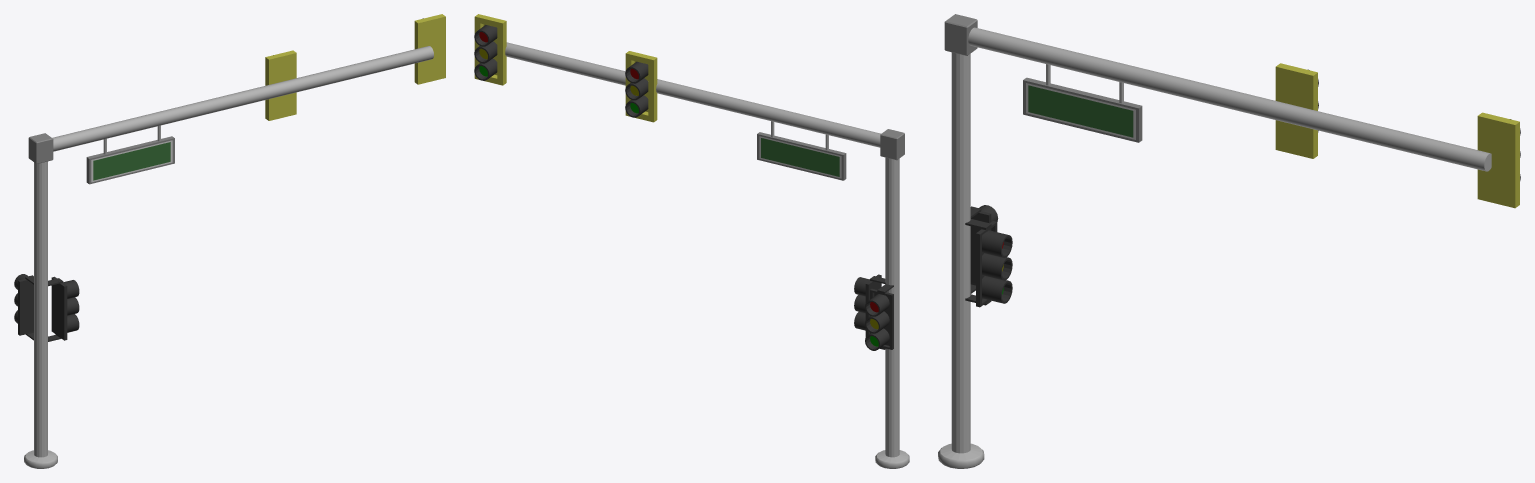
The model's file is Proto_TrafficLight_02.fbx.
3 views of the same model, side by side, from view 1: azimuth 30°, elevation 25°; view 2: azimuth 150°, elevation 25°; view 3: azimuth 330°, elevation 25° (orthographic). The views are drawn at different scales.
Parts seen in each view (by area): view 1: Pole_upper, Pole_base, Sign, UpperLight_01, UpperLight_02, LowerLight_02, LowerLight_01, Pole_connector; view 2: Pole_upper, Pole_base, Sign, UpperLight_02, UpperLight_01, LowerLight_01, LowerLight_02, Pole_connector; view 3: Pole_upper, Pole_base, Sign, UpperLight_01, UpperLight_02, LowerLight_02, Pole_connector, LowerLight_01.
Part boxes in pixels (x1,y1,x2,y2): Pole_upper: (52, 46, 433, 151); Pole_base: (24, 161, 57, 468); Sign: (86, 136, 174, 184); UpperLight_01: (414, 14, 445, 84); UpperLight_02: (265, 50, 296, 120); LowerLight_02: (48, 276, 79, 341); LowerLight_01: (14, 274, 33, 340); Pole_connector: (28, 133, 53, 163); Pole_upper: (505, 42, 880, 147); Pole_base: (875, 157, 909, 468); Sign: (757, 132, 846, 180); UpperLight_02: (625, 51, 657, 122); UpperLight_01: (474, 14, 506, 85); LowerLight_01: (865, 284, 893, 350); LowerLight_02: (854, 274, 885, 337); Pole_connector: (880, 129, 904, 160); Pole_upper: (968, 27, 1491, 171); Pole_base: (938, 52, 984, 468); Sign: (1023, 77, 1142, 142); UpperLight_01: (1477, 112, 1520, 208); UpperLight_02: (1275, 63, 1318, 158); LowerLight_02: (965, 219, 1012, 307); Pole_connector: (944, 14, 977, 55); LowerLight_01: (970, 205, 998, 293).
Bounding box in the file's own units: 20.09 × 15.7 × 2.32.
